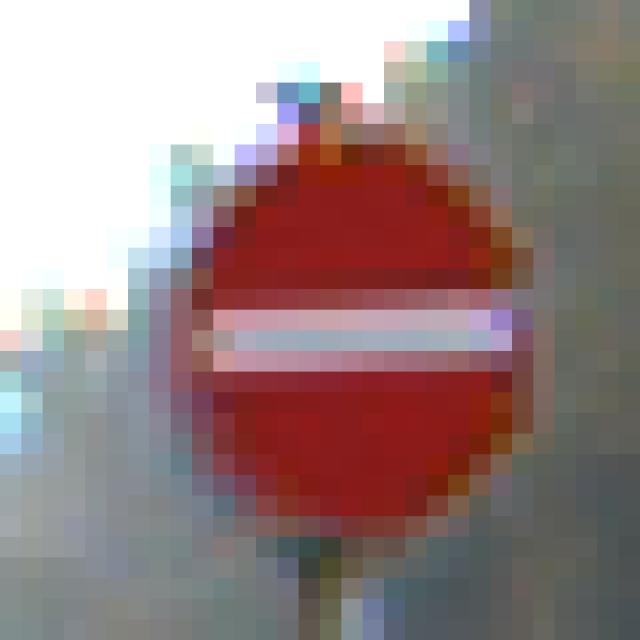No Entry: (129, 104, 534, 538)
